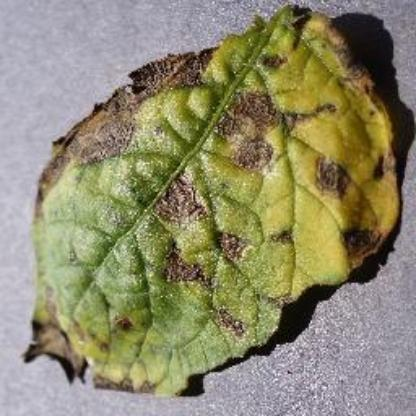Early-Blight: (27, 9, 407, 396)
